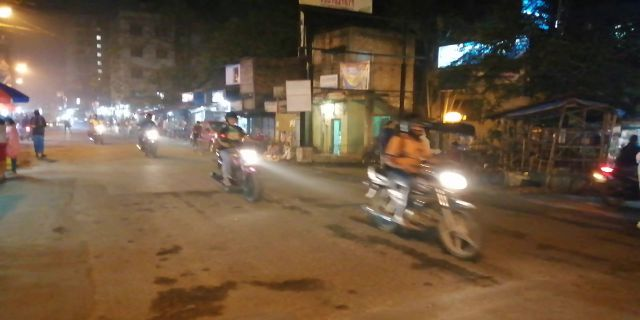Motorbike: (355, 116, 492, 262), (209, 112, 270, 203), (133, 110, 161, 159)
